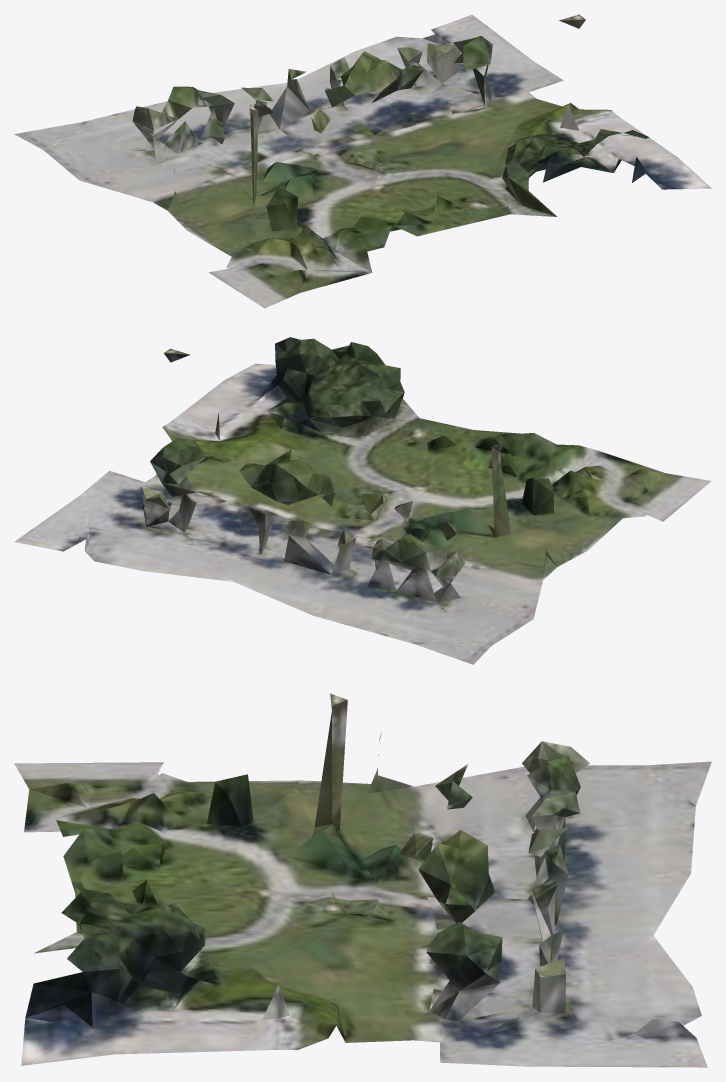
Rendered from Tile_+002_+000_L17_00.glb.
The picture shows the model from 3 angles, top to bottom: view 1: azimuth 30°, elevation 25°; view 2: azimuth 150°, elevation 25°; view 3: azimuth 270°, elevation 25°; orthographic projection. The views are drawn at different scales.
Bounding box in the file's own units: 60.15 × 13.97 × 55.53.
1 material, 1 textured.
